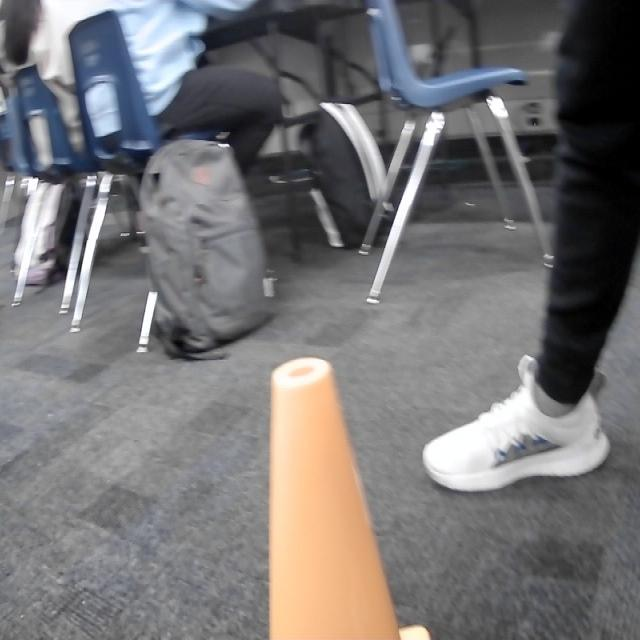cone: (262, 354, 432, 640)
